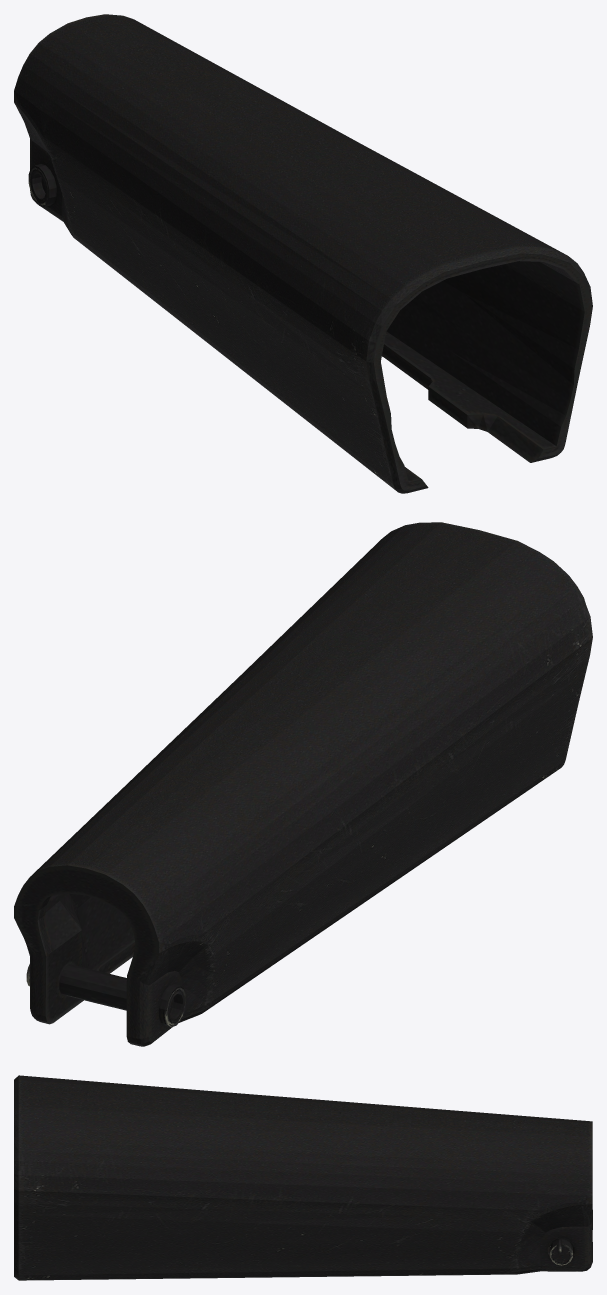
3 renders of one model, top to bottom at view 1: azimuth 30°, elevation 25°; view 2: azimuth 150°, elevation 25°; view 3: azimuth 270°, elevation 25°, orthographic. The views are drawn at different scales.
Visible parts, largest first — view 1: TW_5926c36d86f77467a92a8629_PZ_Import; view 2: TW_5926c36d86f77467a92a8629_PZ_Import; view 3: TW_5926c36d86f77467a92a8629_PZ_Import.
Boxes of the visible parts, x1=… form: TW_5926c36d86f77467a92a8629_PZ_Import: x1=14, y1=14, x2=592, y2=493; TW_5926c36d86f77467a92a8629_PZ_Import: x1=14, y1=522, x2=592, y2=1046; TW_5926c36d86f77467a92a8629_PZ_Import: x1=14, y1=1075, x2=592, y2=1280.
Size of the model in its own units: 0.0276 by 0.0835 by 0.0257.
Materials: 1 (1 with a texture image).
